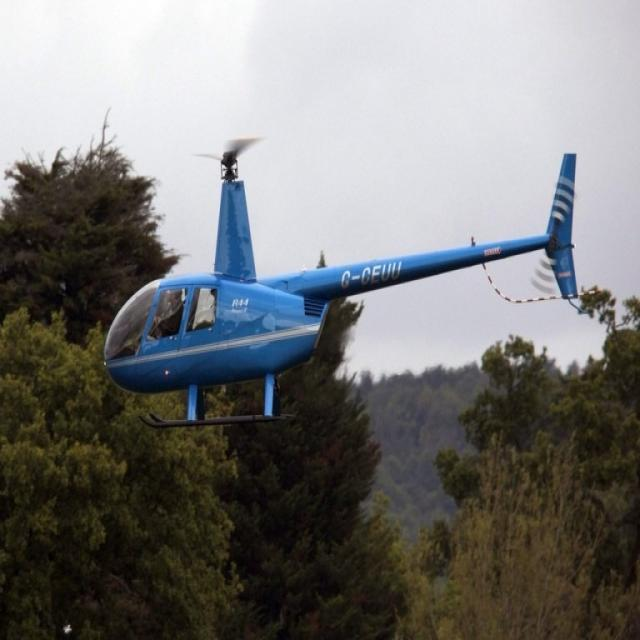CIV_HELO: (101, 146, 581, 430)
